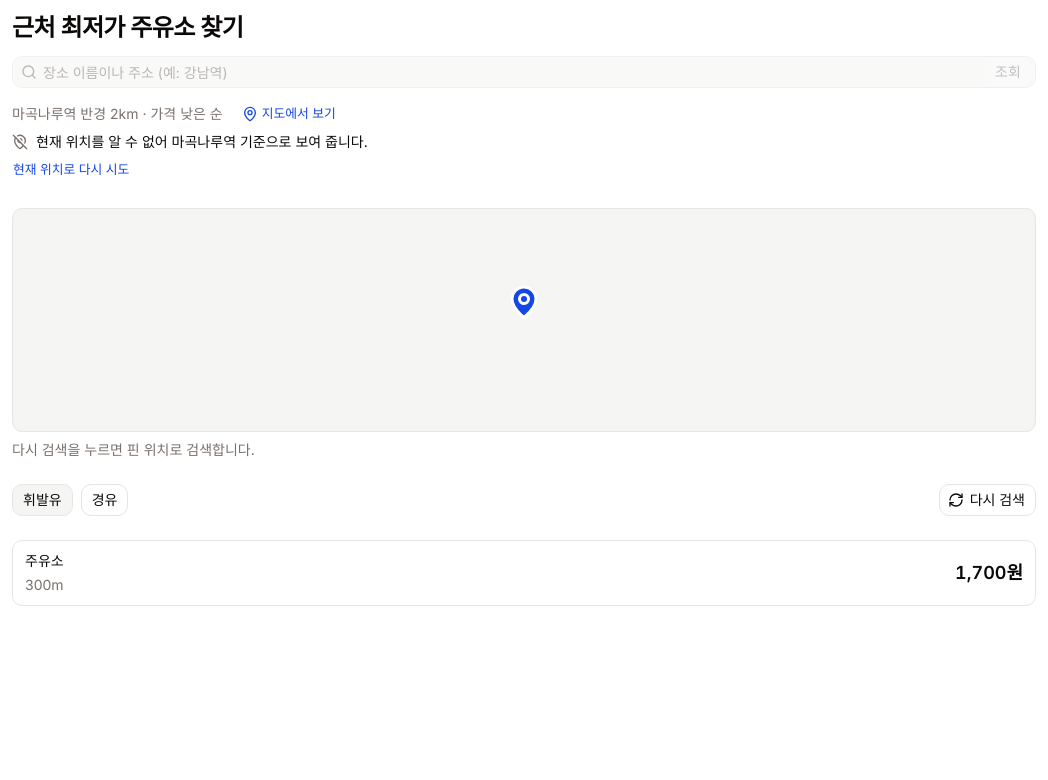
Test: 지도를 옮긴 뒤 다시 검색을 누르면 핀 위치 기준으로 검색한다
The image size is (1048, 780).
Expected: the text "주유소" is shown, [25, 551, 64, 570]
Click the button "다시 검색".
click(987, 500)  # box [939, 484, 1036, 516]
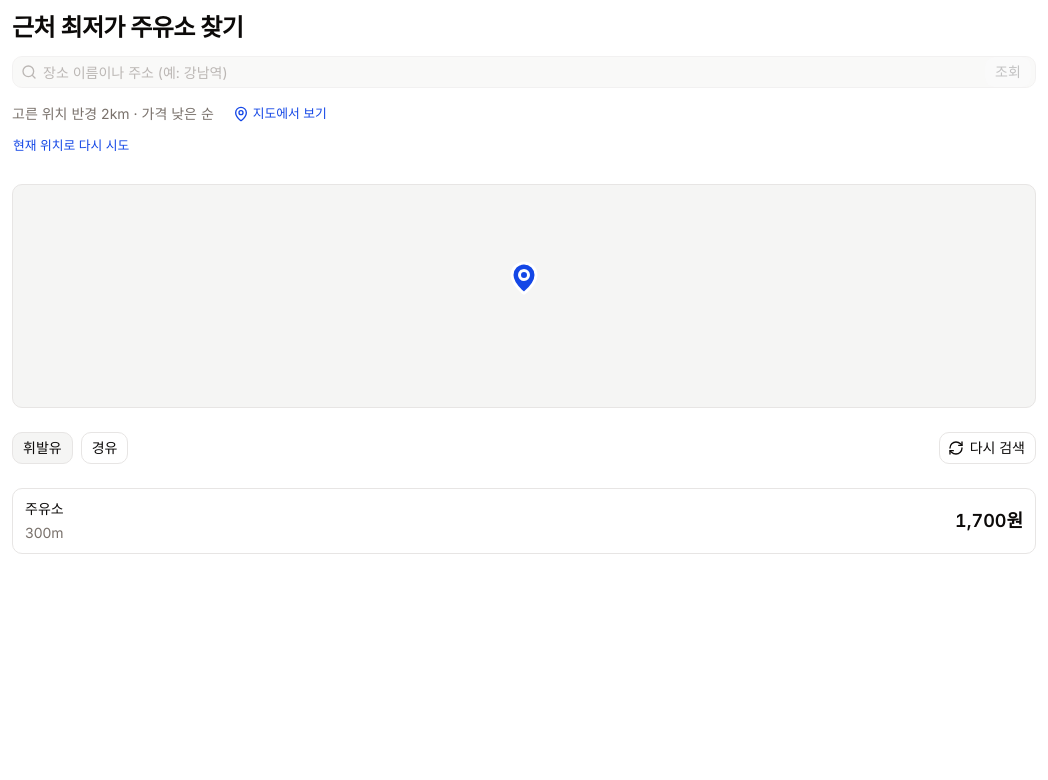
Result: the text "고른 위치 반경 2km · 가격 낮은 순" is shown at [12, 104, 214, 124]
Result: the text "다시 검색을 누르면 핀 위치로 검색합니다." is gone
